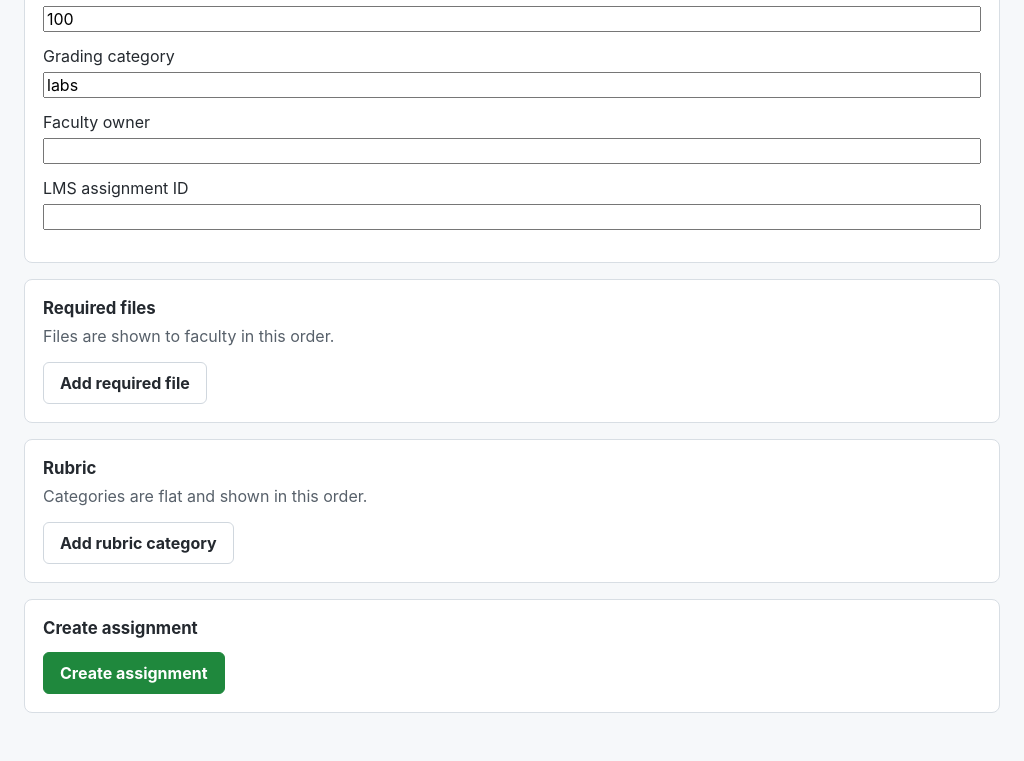
AssignmentSetupPage preview response handling › shows a plain error instead of crashing when the preview response has no files array
The width and height of the screenshot is (1024, 761).
(page scrolled)
Click the button "Create assignment" at x=134, y=673, box left=43, top=652, right=224, bottom=694
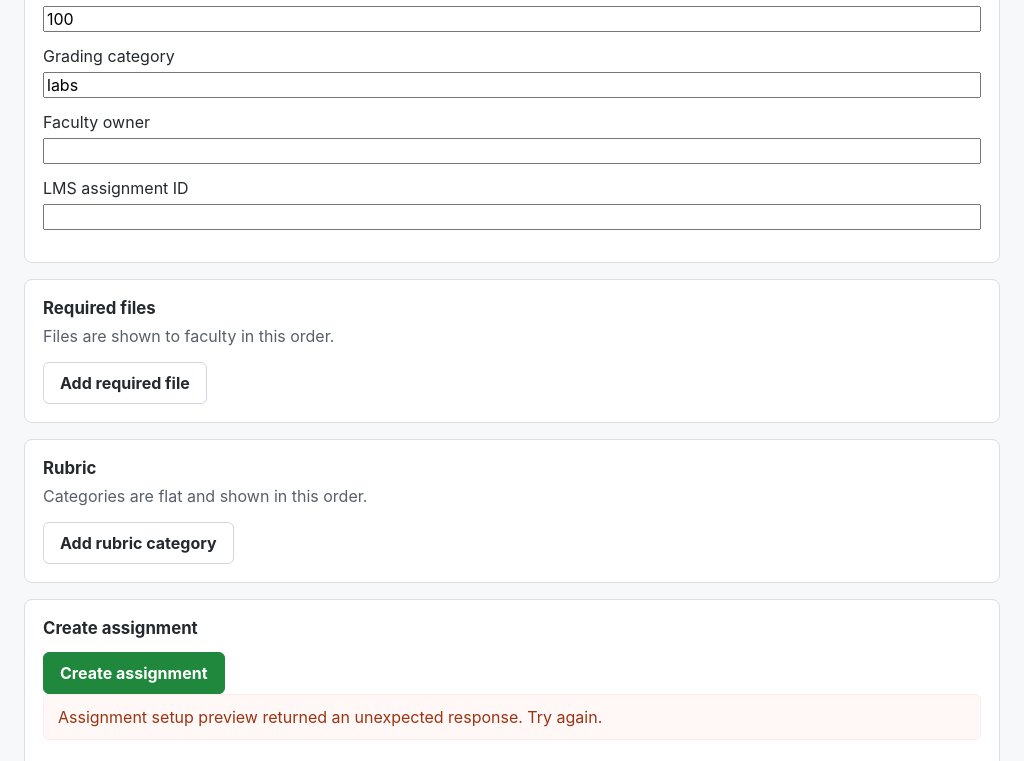
Expected: the text "Assignment setup preview returned an unexpected response. Try again." is shown, left=43, top=694, right=981, bottom=740
